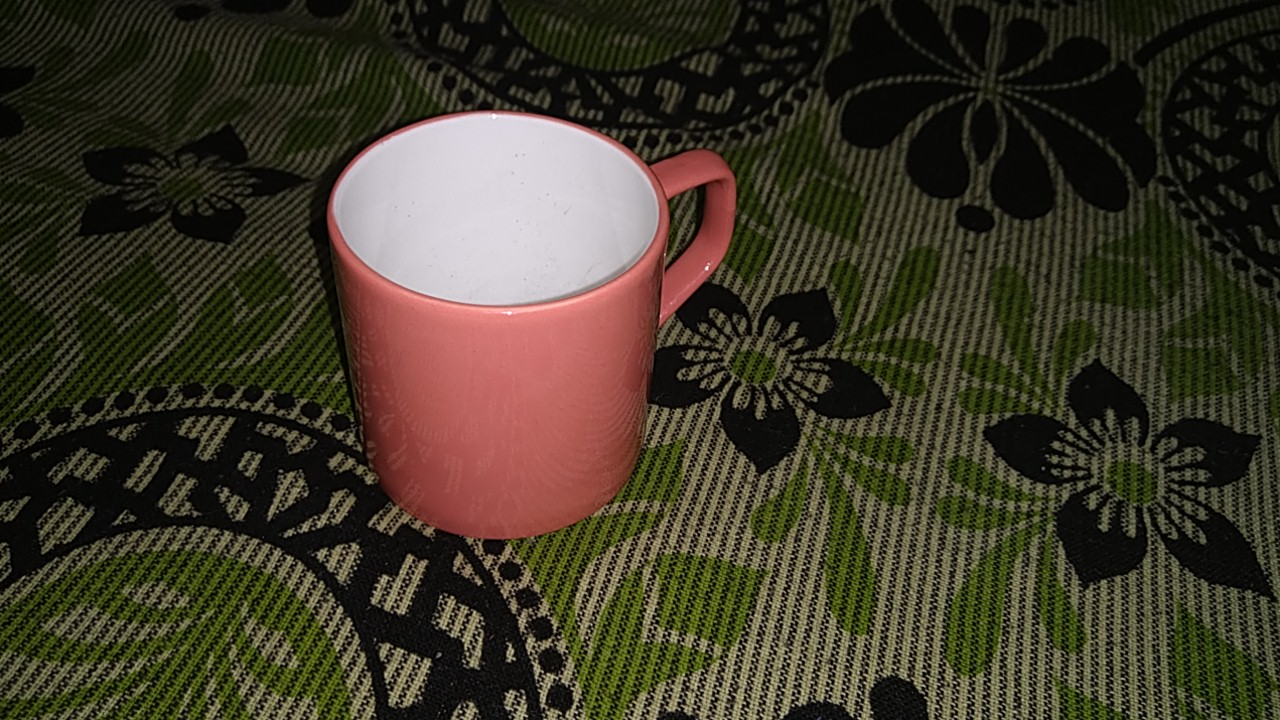cup: (298, 83, 743, 561)
